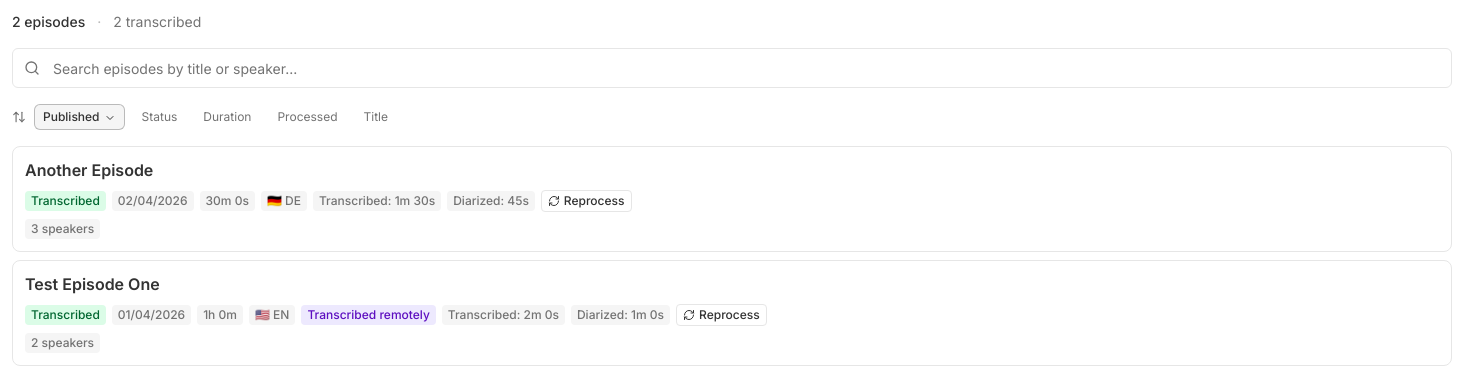
Test case: EpisodesList — search / filter › filters episodes by title case-insensitively
In the field labelled "Search episodes by title or speaker": (732, 68) left=12, top=48, right=1452, bottom=88, type "test"
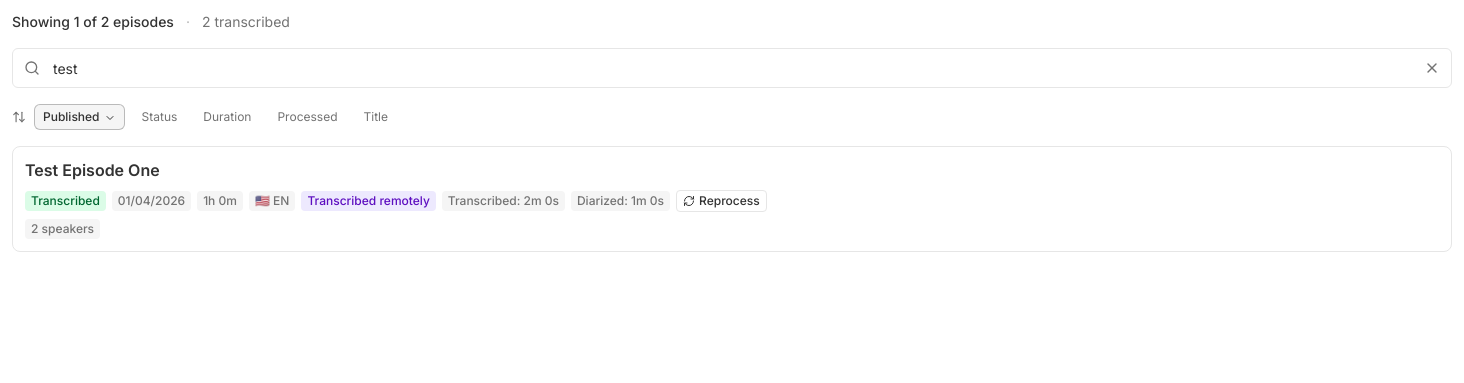
Expected: the text "Test Episode One" is shown, left=25, top=160, right=160, bottom=180
Result: the text "Another Episode" is gone
